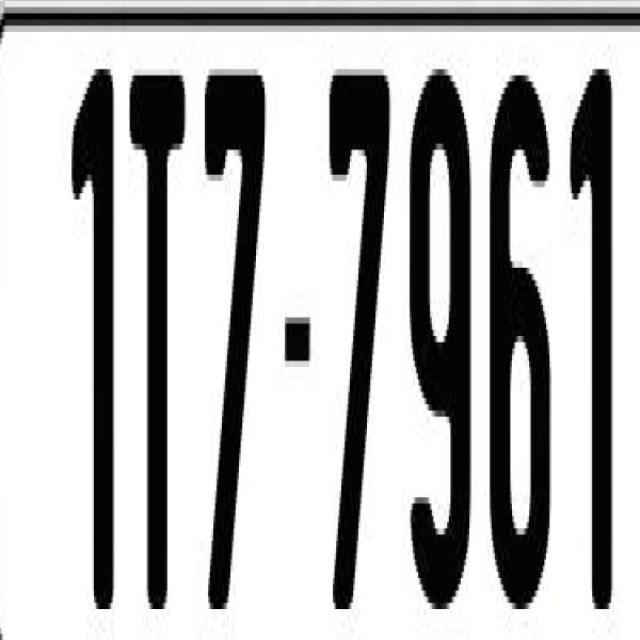license-plate: (4, 6, 640, 636)
